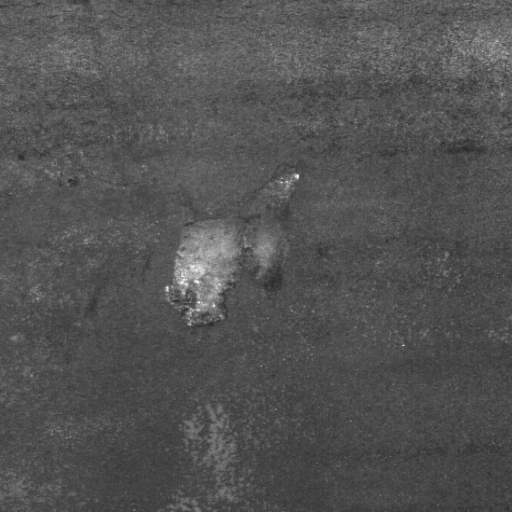qiaopi: (169, 165, 306, 331)
